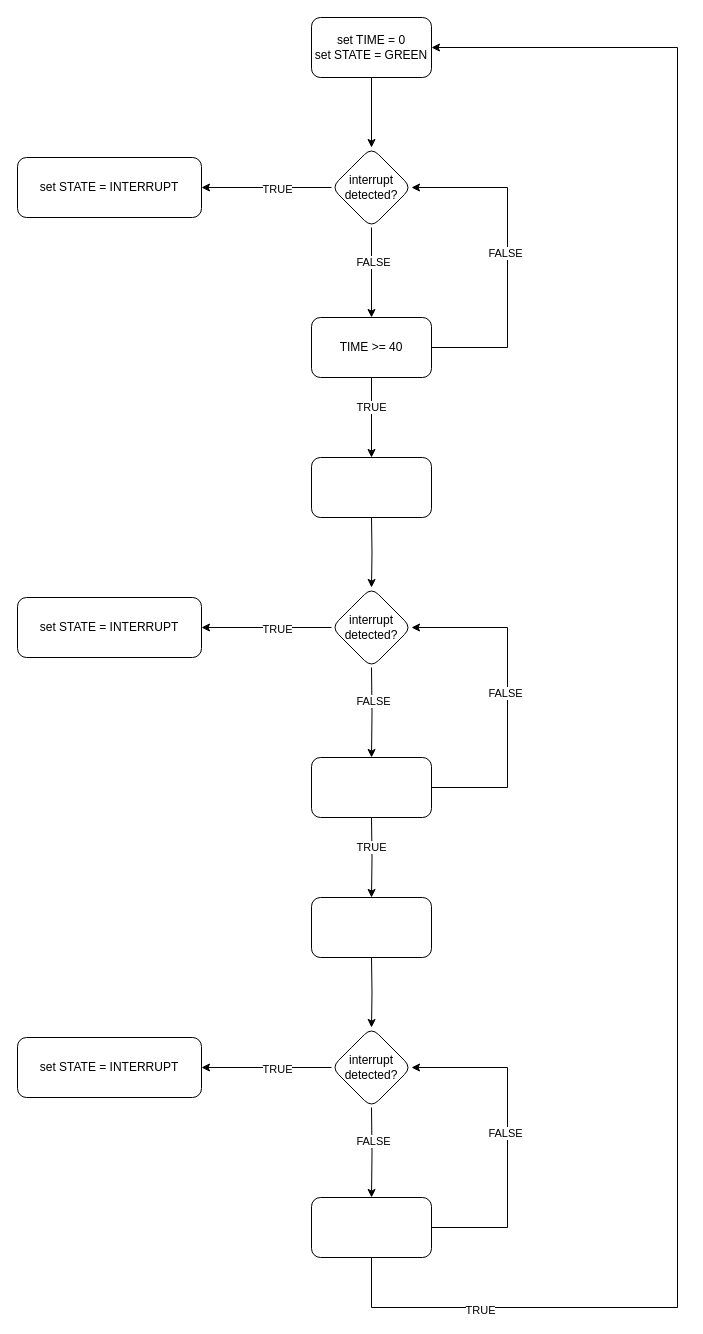
Some shapes in this 703 by 1334 pixel diagram are drawn without their labels. The box of each missing label's shape, as (x1, y1, x2, y2) in pixels:
set STATE = AMBER set TIME = 0: (310, 456, 432, 518)
set STATE = RED set TIME = 0: (310, 896, 432, 958)
TIME >= 10: (310, 756, 432, 818)
TIME >= 50: (310, 1196, 432, 1258)
